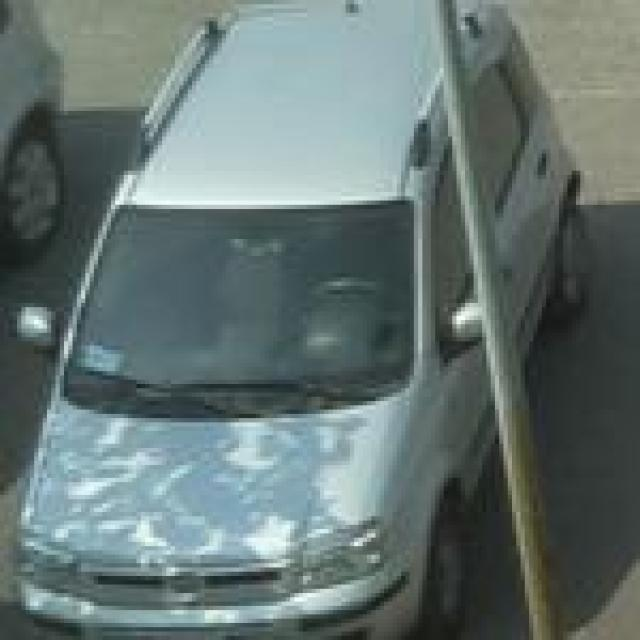cars-sUYr: (0, 8, 623, 640)
